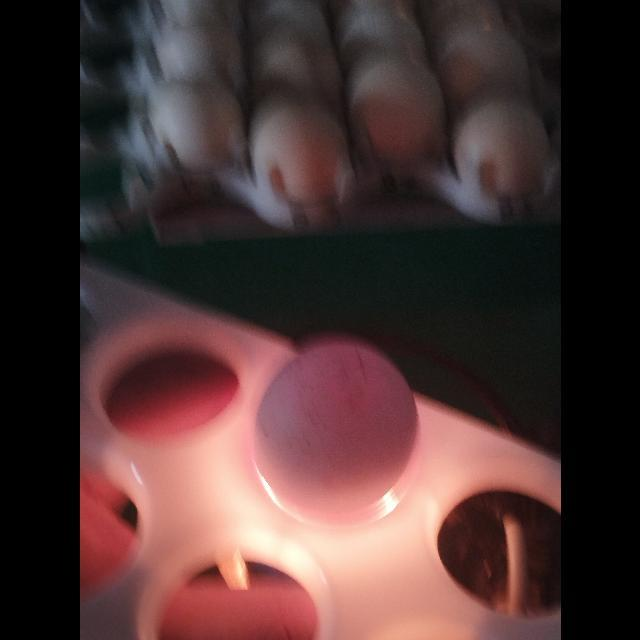Fertile: (248, 337, 424, 528)
